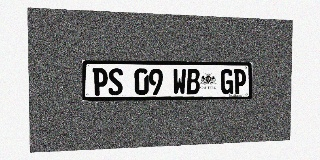0: (134, 68, 149, 95)
9: (149, 68, 163, 95)
B: (187, 69, 200, 94)
G: (221, 69, 233, 94)
P: (93, 68, 108, 95), (234, 69, 246, 94)
S: (108, 68, 123, 95)
W: (173, 69, 186, 95)
